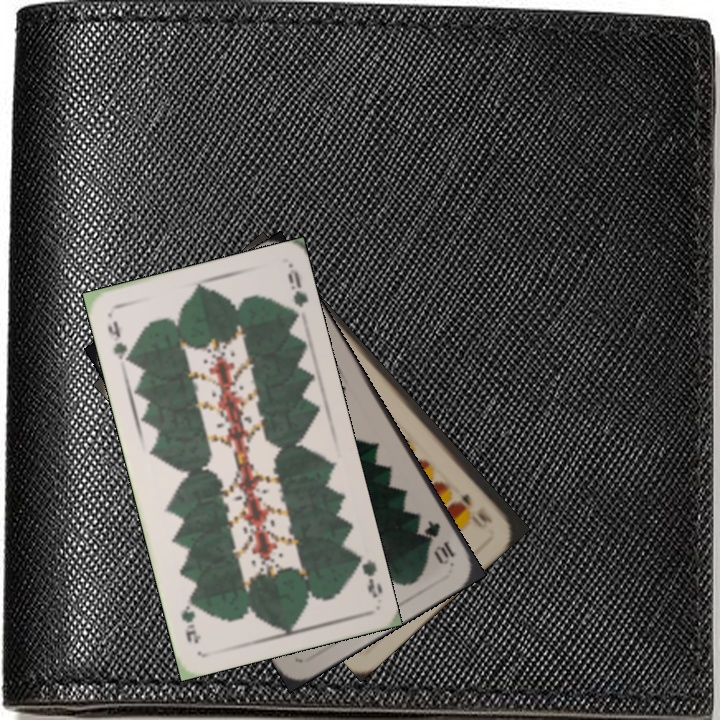E10: (457, 489, 495, 526)
G10: (420, 516, 458, 568)
G9: (349, 548, 385, 601), (103, 316, 135, 367)
